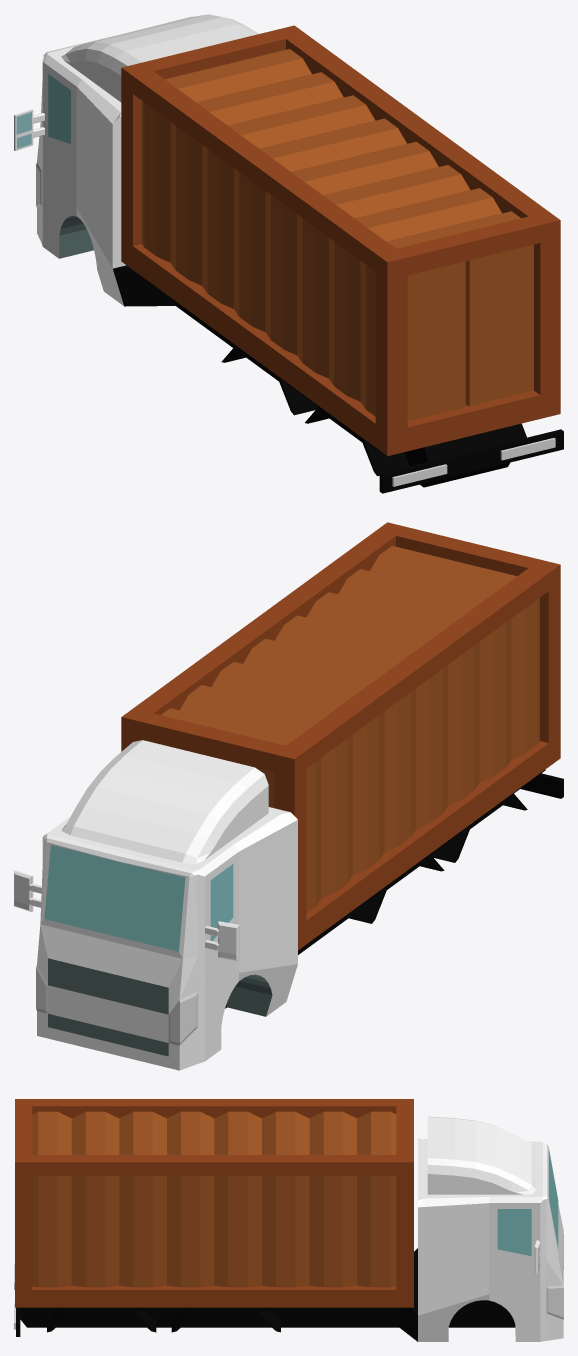
File: Truck.fbx
3 renders of one model, top to bottom at view 1: azimuth 30°, elevation 25°; view 2: azimuth 150°, elevation 25°; view 3: azimuth 270°, elevation 25°, orthographic. The views are drawn at different scales.
Parts seen in each view (by area): view 1: Truck; view 2: Truck; view 3: Truck.
Part boxes in pixels (x1,y1,x2,y2): Truck: (14,14,563,493); Truck: (14,522,563,1070); Truck: (14,1099,563,1341).
Size of the model in its own units: 5.55 by 5.71 by 15.66.
